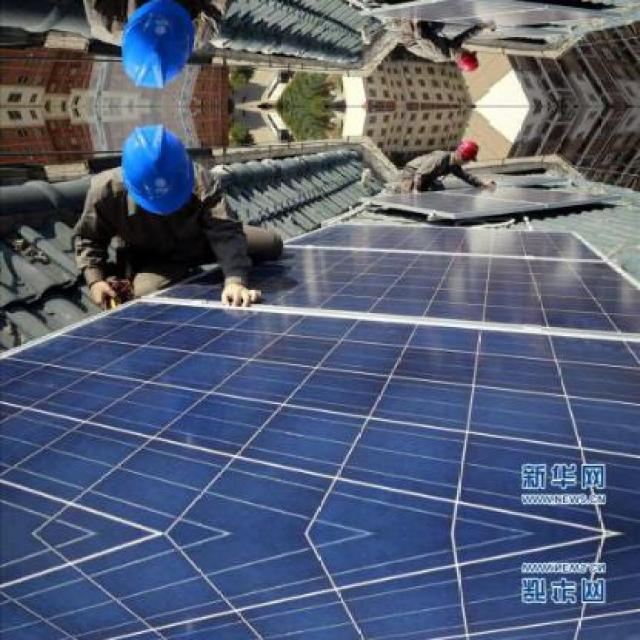helmet: (118, 121, 196, 220), (118, 0, 197, 93), (453, 45, 482, 78), (453, 135, 482, 167)
